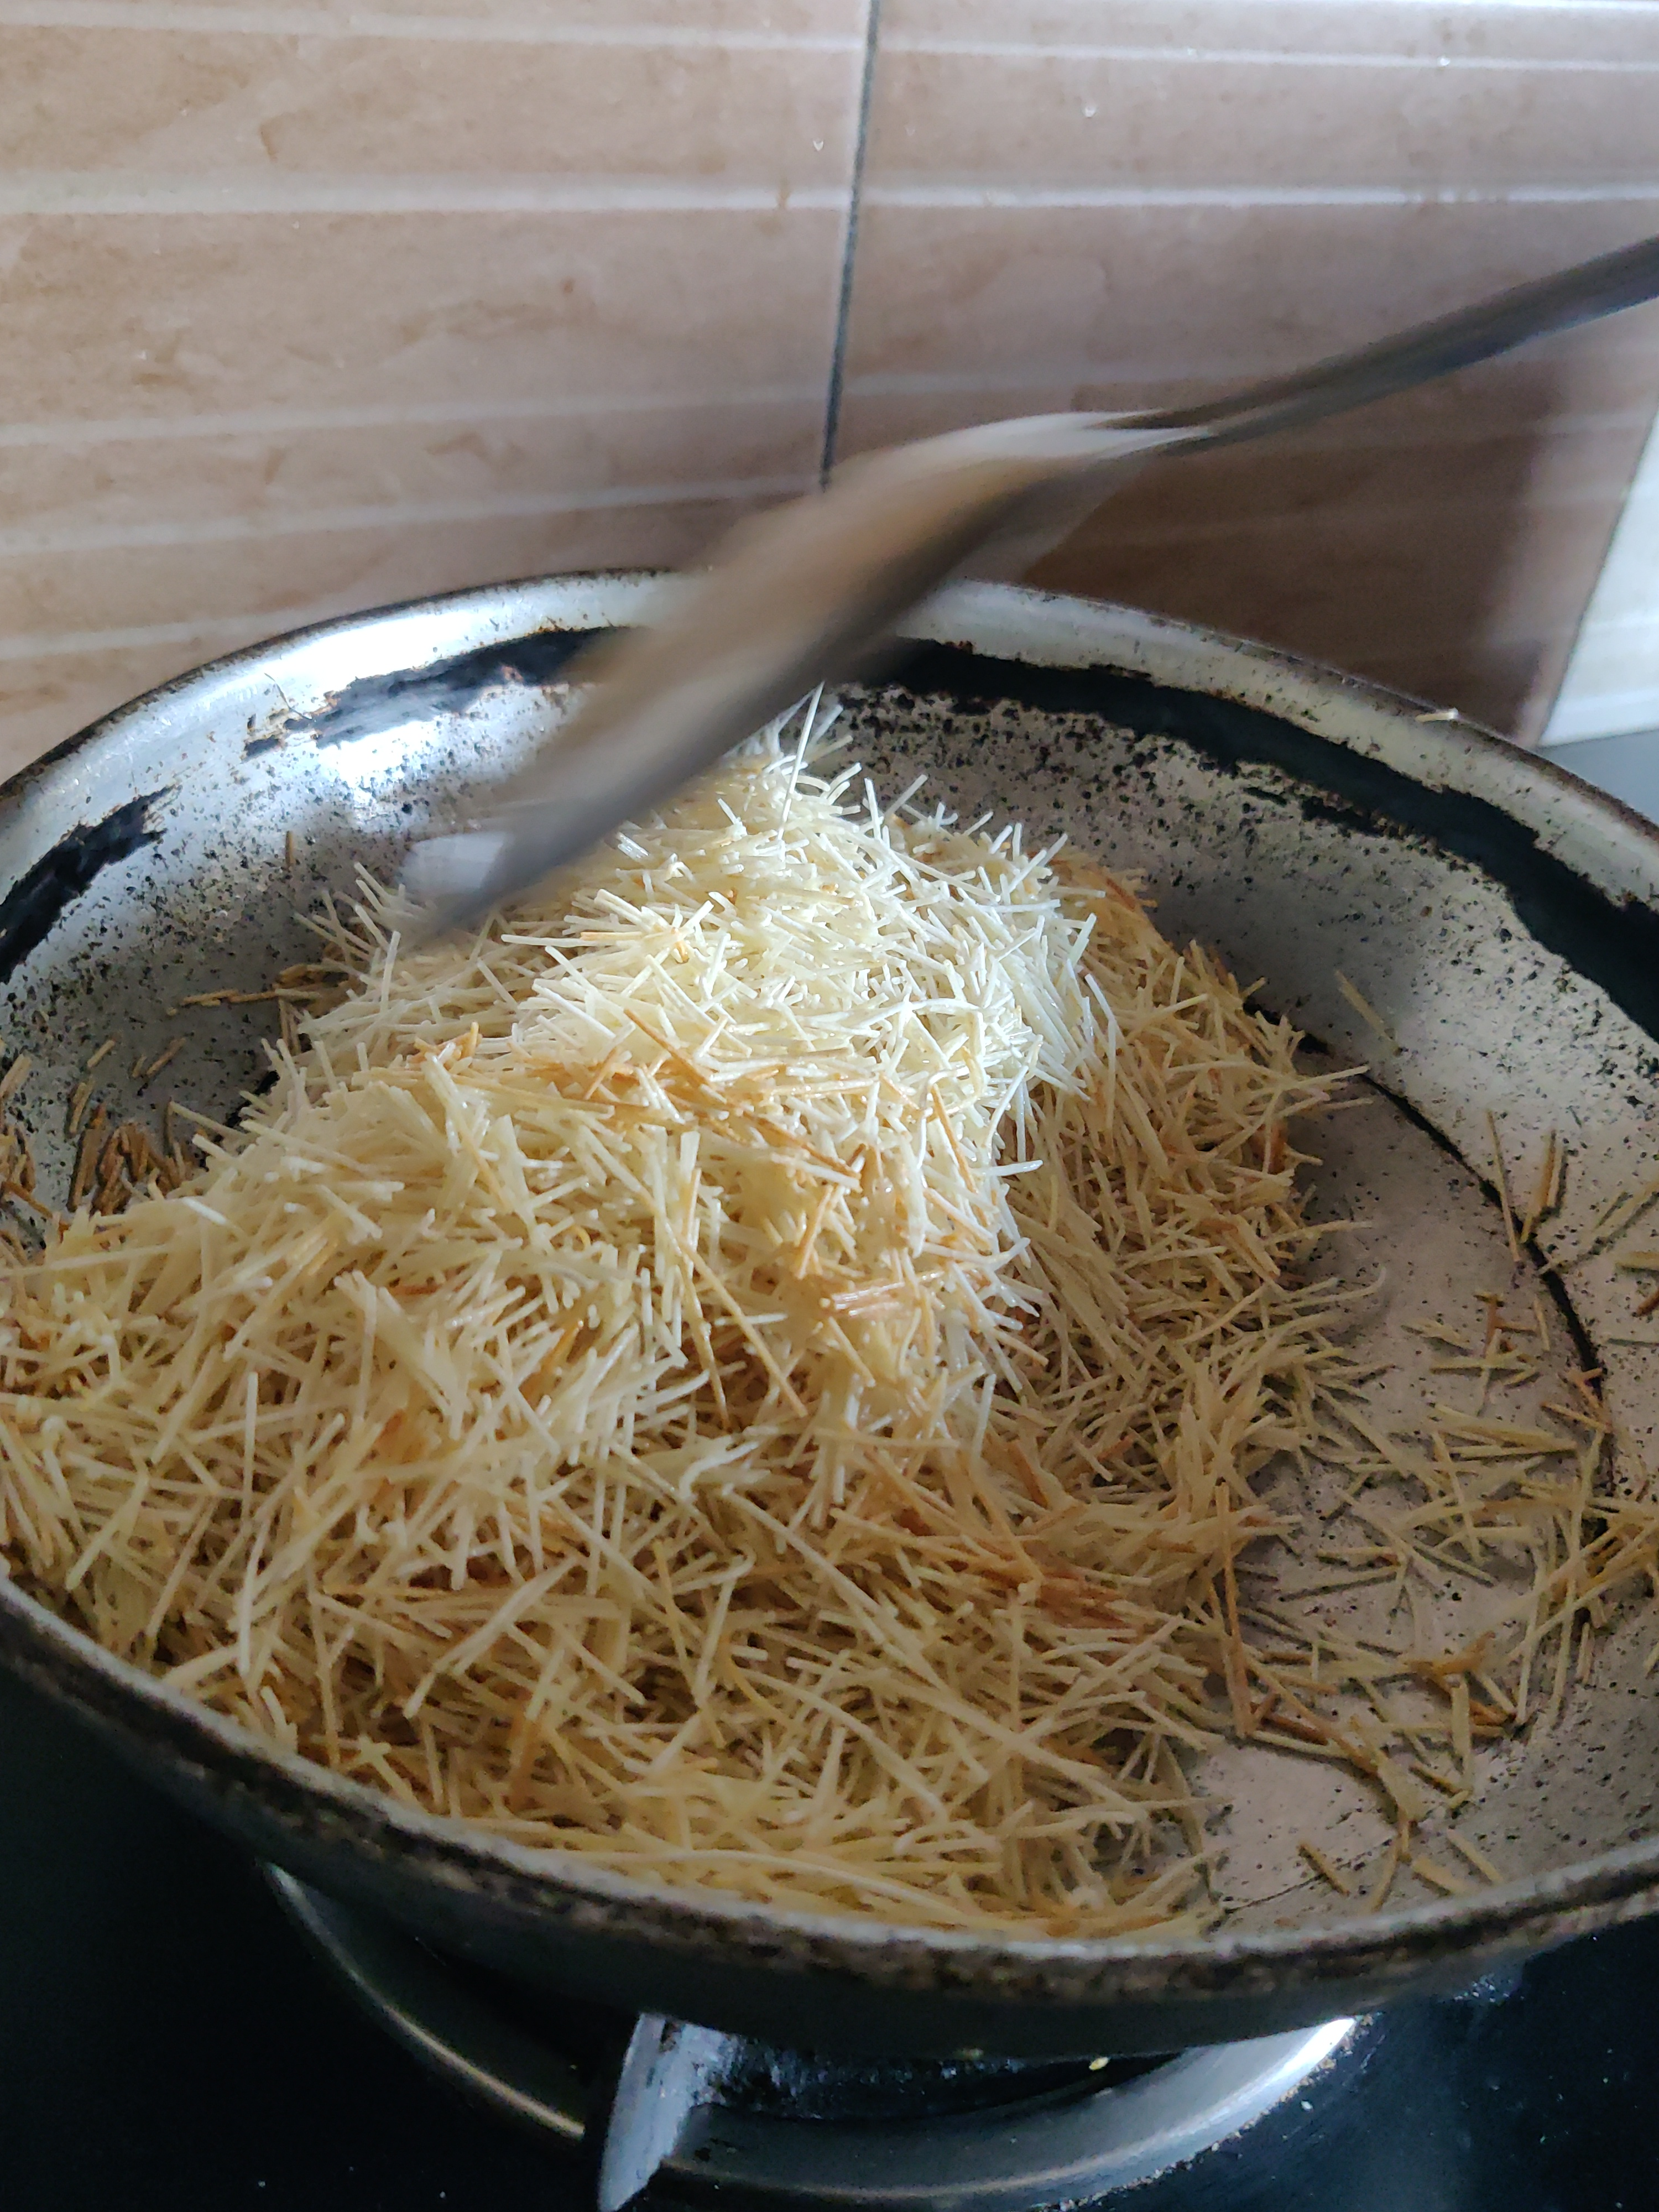food: (0, 685, 1659, 1961)
